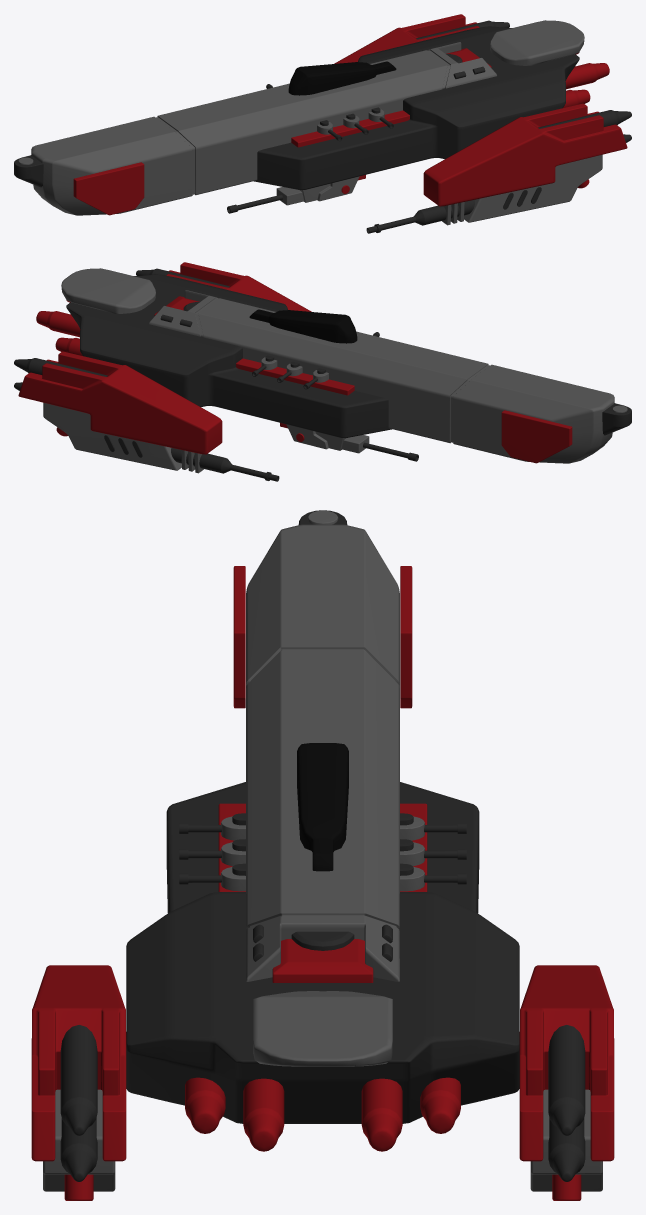
Rendered from BigBoss2.glb.
3 views of the same model, one above another, from view 1: azimuth 30°, elevation 25°; view 2: azimuth 150°, elevation 25°; view 3: azimuth 270°, elevation 25° (orthographic). The views are drawn at different scales.
Visible parts, largest first — view 1: Destroyer_1; view 2: Destroyer_1; view 3: Destroyer_1.
Part boxes in pixels (x1,y1,x2,y2): Destroyer_1: (14,14,631,233); Destroyer_1: (14,262,631,481); Destroyer_1: (31,510,614,1200).
Bounding box in the file's own units: 91 × 19.25 × 39.76.
Materials: 1 (1 with a texture image).
